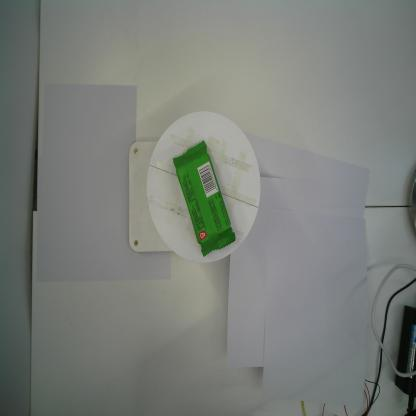Dessert: (173, 140, 236, 258)
